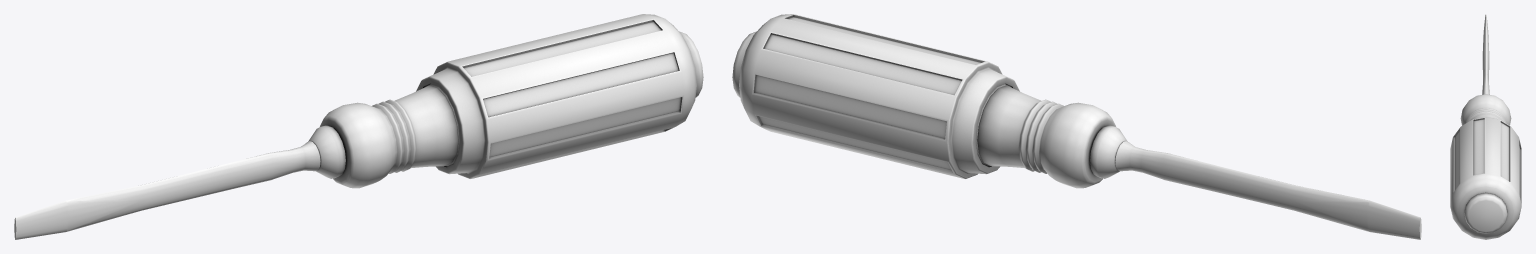
Rendered from Screwdriver.obj.
3 renders of one model, left to right at view 1: azimuth 30°, elevation 25°; view 2: azimuth 150°, elevation 25°; view 3: azimuth 270°, elevation 25°, orthographic. The views are drawn at different scales.
Visible parts, largest first — view 1: Screwdriver; view 2: Screwdriver; view 3: Screwdriver.
Boxes of the visible parts, left/top/right/bottom form: Screwdriver: left=14, top=14, right=703, bottom=239; Screwdriver: left=732, top=14, right=1421, bottom=239; Screwdriver: left=1450, top=14, right=1521, bottom=239.
Bounding box in the file's own units: 9.86 × 1.53 × 1.53.
